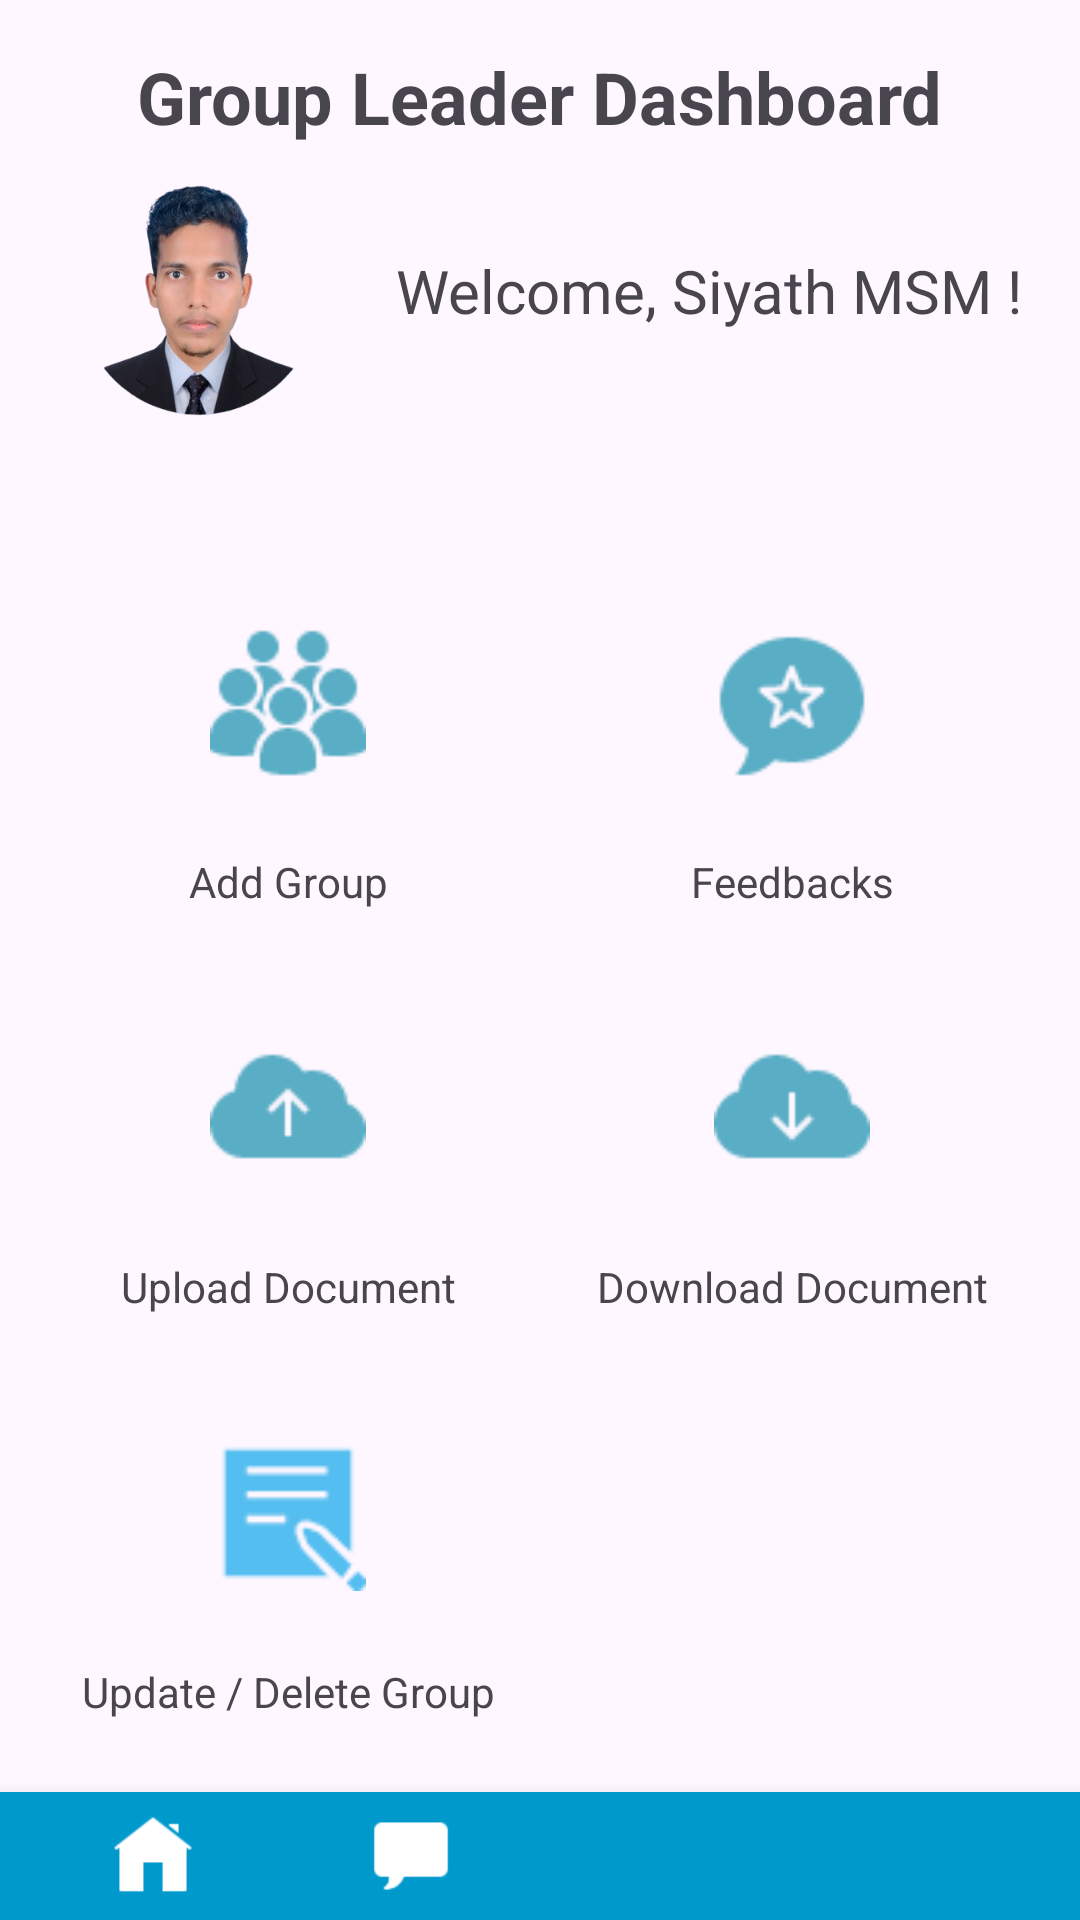

Named icons in this screenshot (1080px×1920px) and their bounding boxes, detection(x1, y1, x2, y2):
chat: detection(374, 1822, 448, 1890)
home: detection(114, 1817, 192, 1892)
